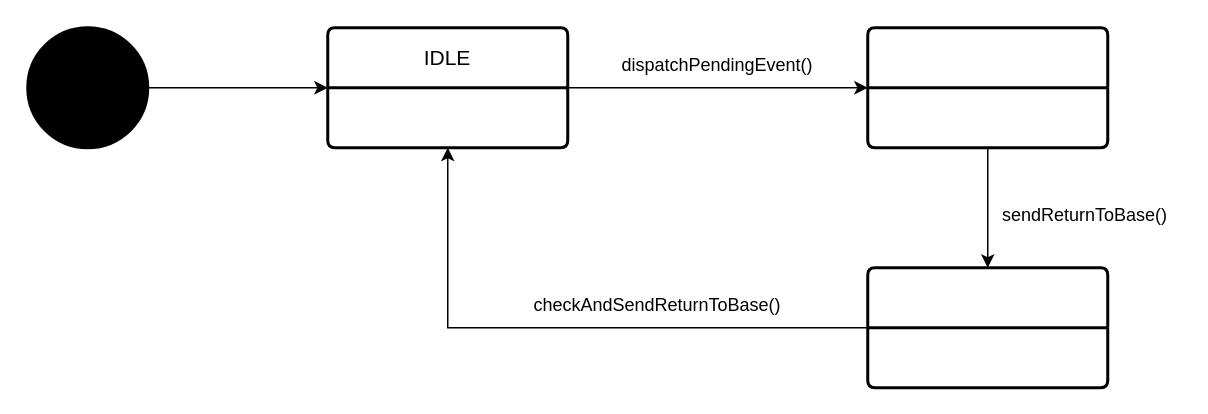
Image size: 1208x414. Some labels were removed from this diagram. The shapes that lost their labels are listed below. From the top down, each one's box as (x1, y1, x2, y2) in pixels, then its label:
(866, 26, 1108, 148): EN_ROUTE
(866, 266, 1108, 388): RETURNING
